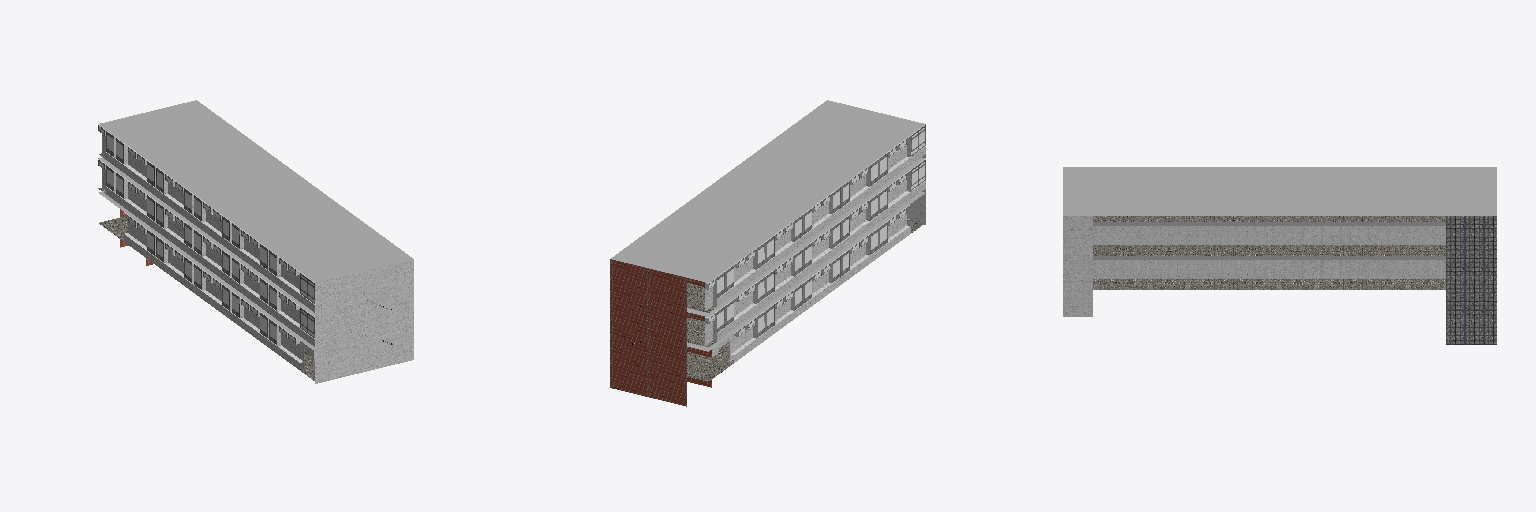
3 views of the same model, side by side, from view 1: azimuth 30°, elevation 25°; view 2: azimuth 150°, elevation 25°; view 3: azimuth 270°, elevation 25° (orthographic).
Visible parts, largest first — view 1: DeckeGroß, TreppeWand.003, FensterGang, GangWand002_PutzGelb, GangWand003_PutzGelb, GangWand001_PutzGrün, BodenGroß; view 2: DeckeGroß, TreppeWand.001_TreppeWand, FensterGang, GangWand002_PutzGelb, GangWand003_PutzGelb, GangWand001_PutzGrün, BodenGroß; view 3: DeckeGroß, BodenGroß, GangWand002_PutzGelb, GangWand001_PutzGrün, TreppeWand.002, TreppeWand.003, Decke002.
Part boxes in pixels (x1,y1,x2,y2): DeckeGroß: (98,100,412,350); TreppeWand.003: (315,259,413,383); FensterGang: (98,125,314,344); GangWand002_PutzGelb: (98,159,314,346); GangWand003_PutzGelb: (99,125,314,312); GangWand001_PutzGrün: (124,212,314,369); BodenGroß: (98,153,314,380); DeckeGroß: (611,100,925,351); TreppeWand.001_TreppeWand: (610,259,711,406); FensterGang: (709,125,925,337); GangWand002_PutzGelb: (705,159,925,345); GangWand003_PutzGelb: (705,125,925,310); GangWand001_PutzGrün: (712,205,910,362); BodenGroß: (687,218,924,381); DeckeGroß: (1063,167,1496,215); BodenGroß: (1093,216,1445,289); GangWand002_PutzGelb: (1093,226,1445,244); GangWand001_PutzGrün: (1093,260,1445,278); TreppeWand.002: (1446,216,1496,344); TreppeWand.003: (1063,216,1092,316); Decke002: (1093,222,1445,259).
Bounding box in the file's own units: 12 × 15 × 45.84.
Materials: 11 (7 with a texture image).